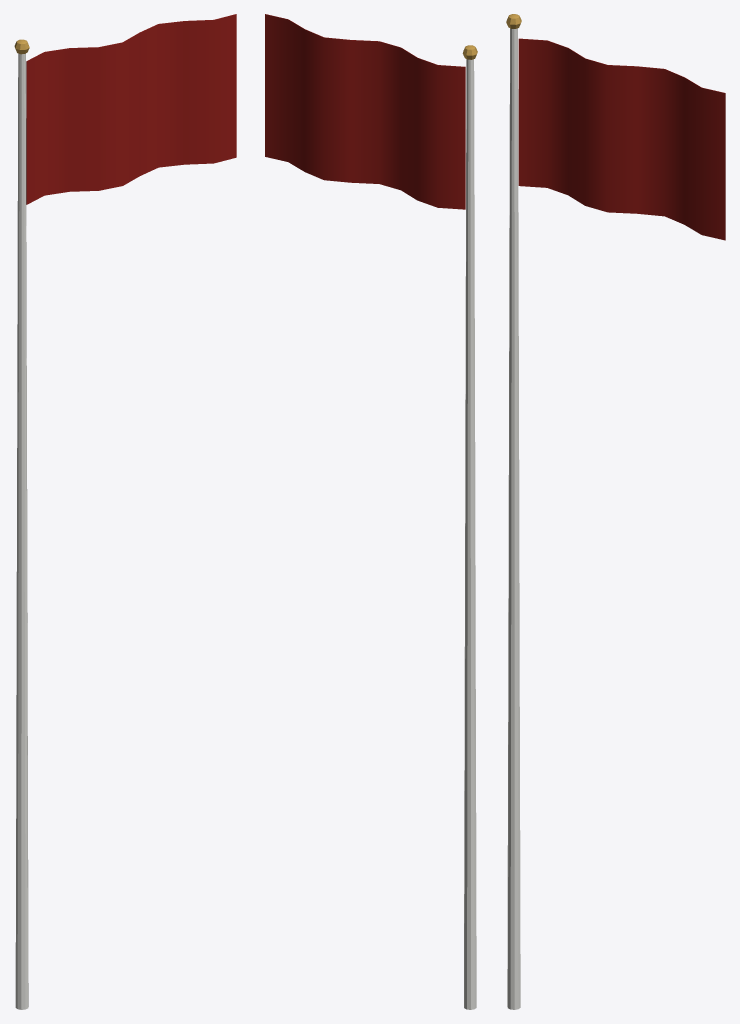
Rendered from street.furniture.flagpole.glb.
3 renders of one model, left to right at view 1: azimuth 30°, elevation 25°; view 2: azimuth 150°, elevation 25°; view 3: azimuth 330°, elevation 25°, orthographic. The views are drawn at different scales.
Visible parts, largest first — view 1: main__fabric_red, main__paint_white; view 2: main__fabric_red, main__paint_white; view 3: main__fabric_red, main__paint_white.
Boxes of the visible parts, box(x1,y1,x2,y2) form: main__fabric_red: box(26, 14, 236, 204); main__paint_white: box(15, 53, 28, 1009); main__fabric_red: box(265, 14, 465, 209); main__paint_white: box(464, 59, 476, 1009); main__fabric_red: box(518, 38, 725, 240); main__paint_white: box(507, 28, 520, 1009).
Size of the model in its own units: 1.9 by 8.09 by 0.1545.
